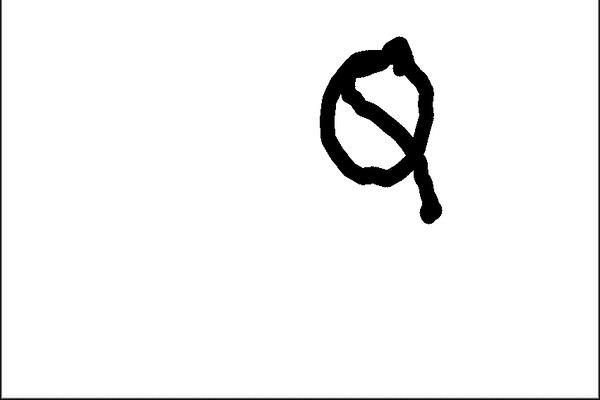Q: (303, 21, 449, 235)
